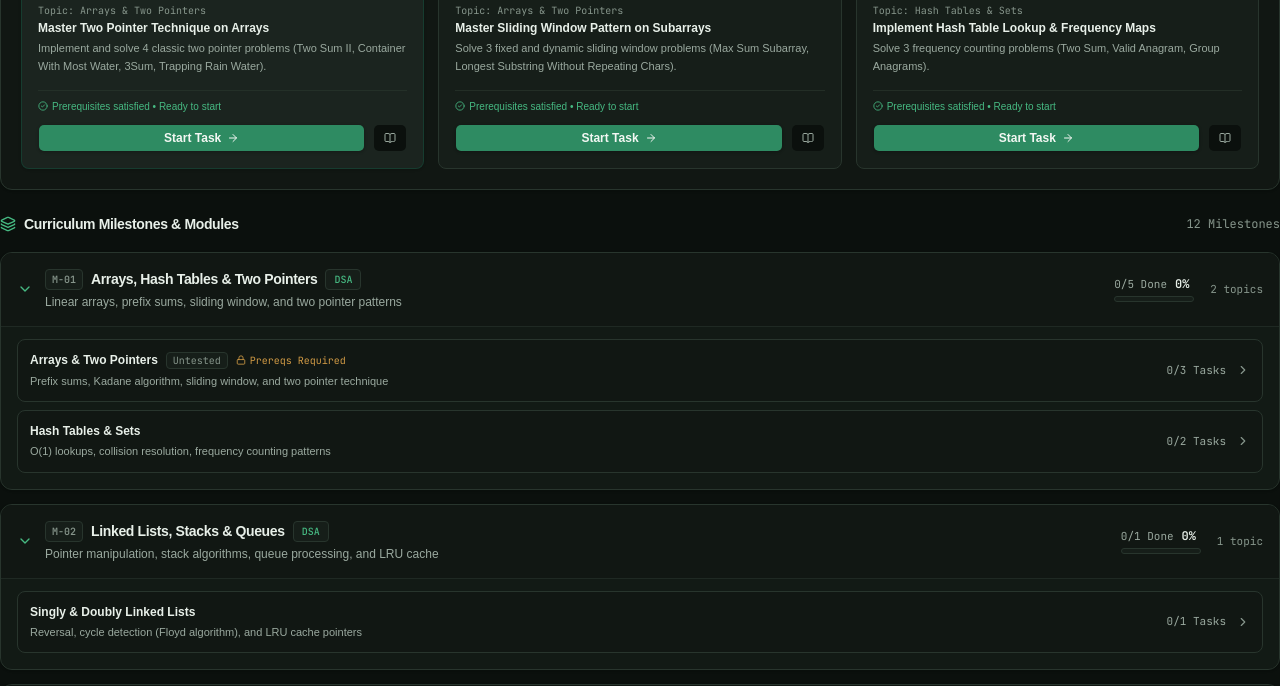
Test: F-UI-PRE-NAV: lock explanation names the real blocker › explains exactly which prerequisite blocks the target and why
(page scrolled)
Click the text "Arrays & Two Pointers" at (94, 360), box left=30, top=352, right=158, bottom=368
(page scrolled)
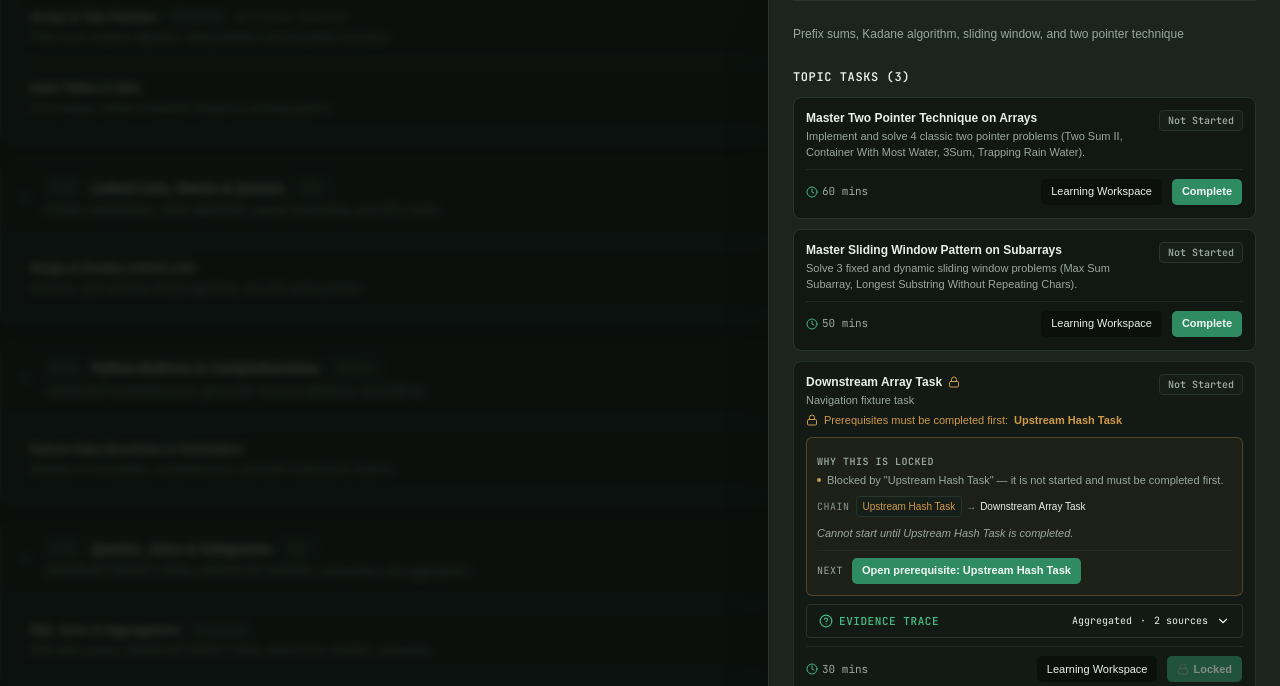
Result: the list item with test id "lock-blocker-nav-target-0" shows "Upstream Hash Task" at left=827, top=474, right=1224, bottom=486
Result: the list item with test id "lock-blocker-nav-target-0" shows "not started" at left=827, top=474, right=1224, bottom=486
Result: the element with test id "prereq-warning-nav-target" shows "Prerequisites must be completed first:" at left=824, top=414, right=1008, bottom=426
